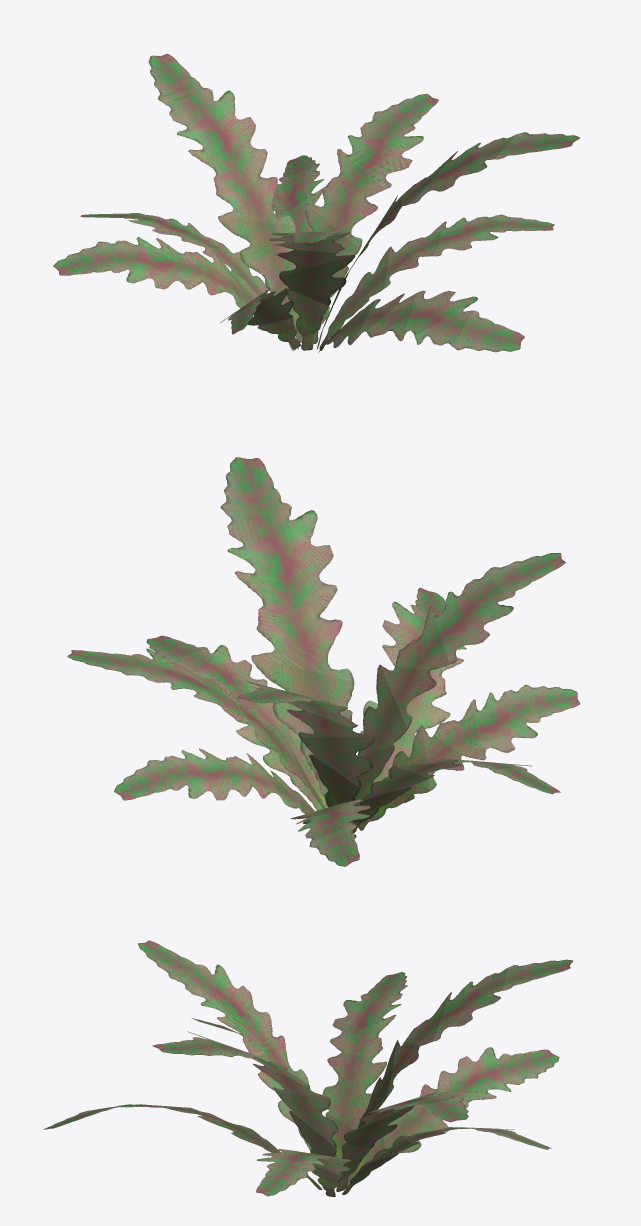
The model's file is Spindlewit B2.fbx.
3 views of the same model, one above another, from view 1: azimuth 30°, elevation 25°; view 2: azimuth 150°, elevation 25°; view 3: azimuth 270°, elevation 25° (orthographic). The views are drawn at different scales.
Parts seen in each view (by area): view 1: Spindlewit B2; view 2: Spindlewit B2; view 3: Spindlewit B2.
Part boxes in pixels (x1,y1,x2,y2): Spindlewit B2: (53, 53, 580, 352); Spindlewit B2: (67, 457, 580, 866); Spindlewit B2: (43, 940, 573, 1197).
Bounding box in the file's own units: 118 × 57.68 × 125.
